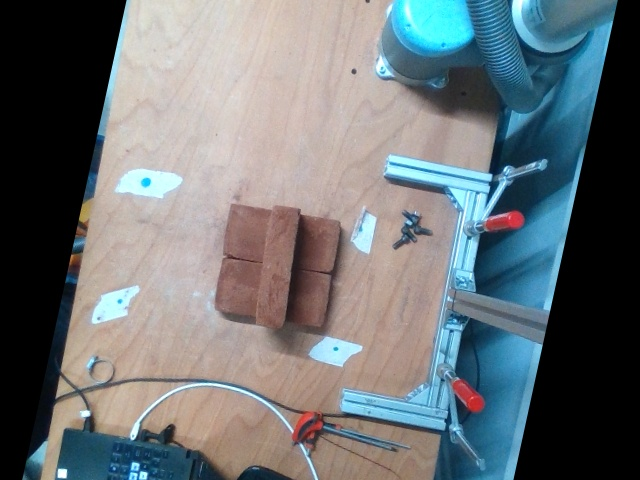brick-side: (255, 206, 299, 328)
